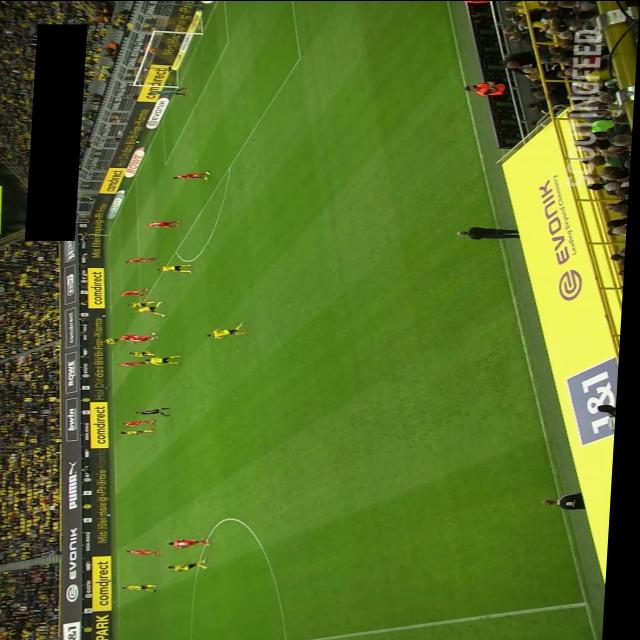goalkeeper: (149, 86, 188, 96)
player: (211, 320, 253, 338), (174, 557, 217, 571), (137, 303, 170, 317), (175, 538, 218, 548), (148, 354, 186, 364), (129, 582, 166, 592), (176, 171, 212, 181), (122, 332, 153, 342), (159, 264, 196, 272), (148, 219, 183, 227), (127, 418, 161, 426), (130, 300, 162, 308), (131, 334, 163, 342), (123, 288, 154, 296), (125, 428, 161, 434), (129, 257, 163, 263), (133, 548, 167, 554), (107, 336, 131, 344), (122, 360, 152, 366), (133, 350, 160, 356)
referee: (139, 406, 176, 416)
